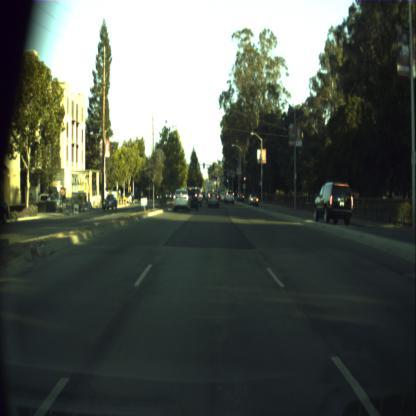Green: (226, 174, 228, 182), (191, 161, 192, 168)
Red: (244, 176, 245, 184)
off: (213, 163, 214, 169), (203, 162, 204, 168)
